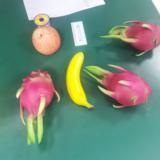apple: (32, 26, 61, 55)
pitaya: (16, 71, 59, 145), (83, 64, 149, 109), (99, 19, 160, 55)
